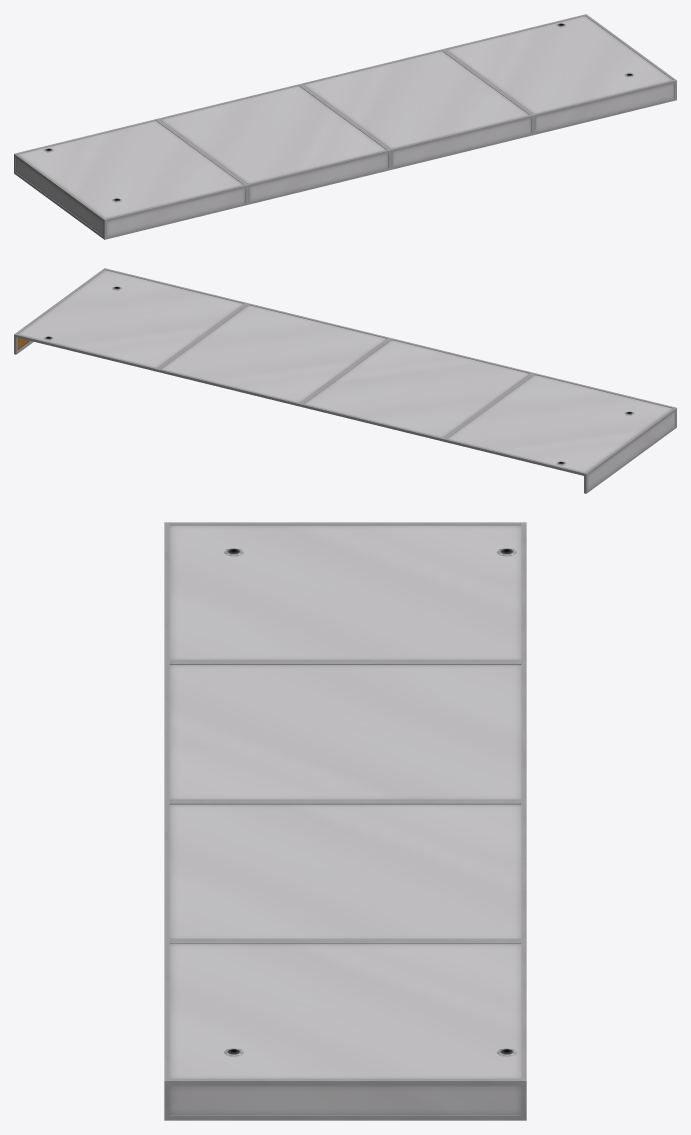
File: jsf_4P_s04_c04_t01_DX.fbx
The picture shows the model from 3 angles, top to bottom: view 1: azimuth 30°, elevation 25°; view 2: azimuth 150°, elevation 25°; view 3: azimuth 270°, elevation 25°; orthographic projection. The views are drawn at different scales.
Visible parts, largest first — view 1: jsf_4P_s04_c04_t01_DX; view 2: jsf_4P_s04_c04_t01_DX; view 3: jsf_4P_s04_c04_t01_DX.
Part boxes in pixels (x1,y1,x2,y2): jsf_4P_s04_c04_t01_DX: (14,14,676,239); jsf_4P_s04_c04_t01_DX: (14,268,676,493); jsf_4P_s04_c04_t01_DX: (164,522,526,1120).
Size of the model in its own units: 378 by 12.99 by 104.
